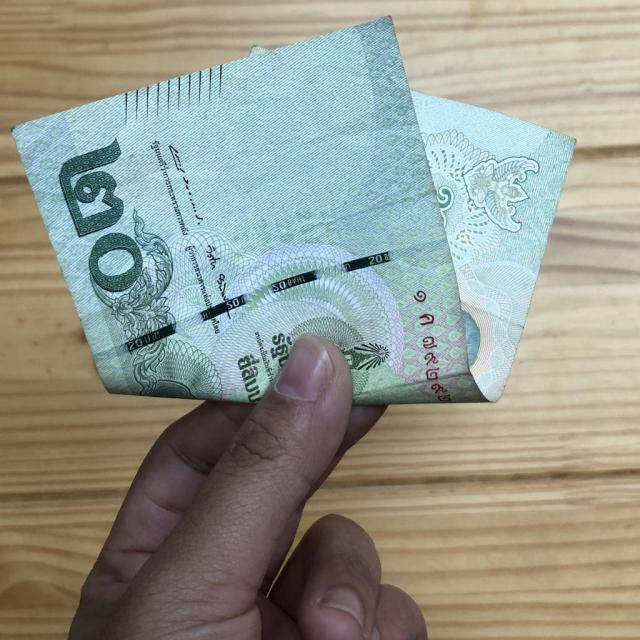THAI20: (14, 17, 574, 404)
